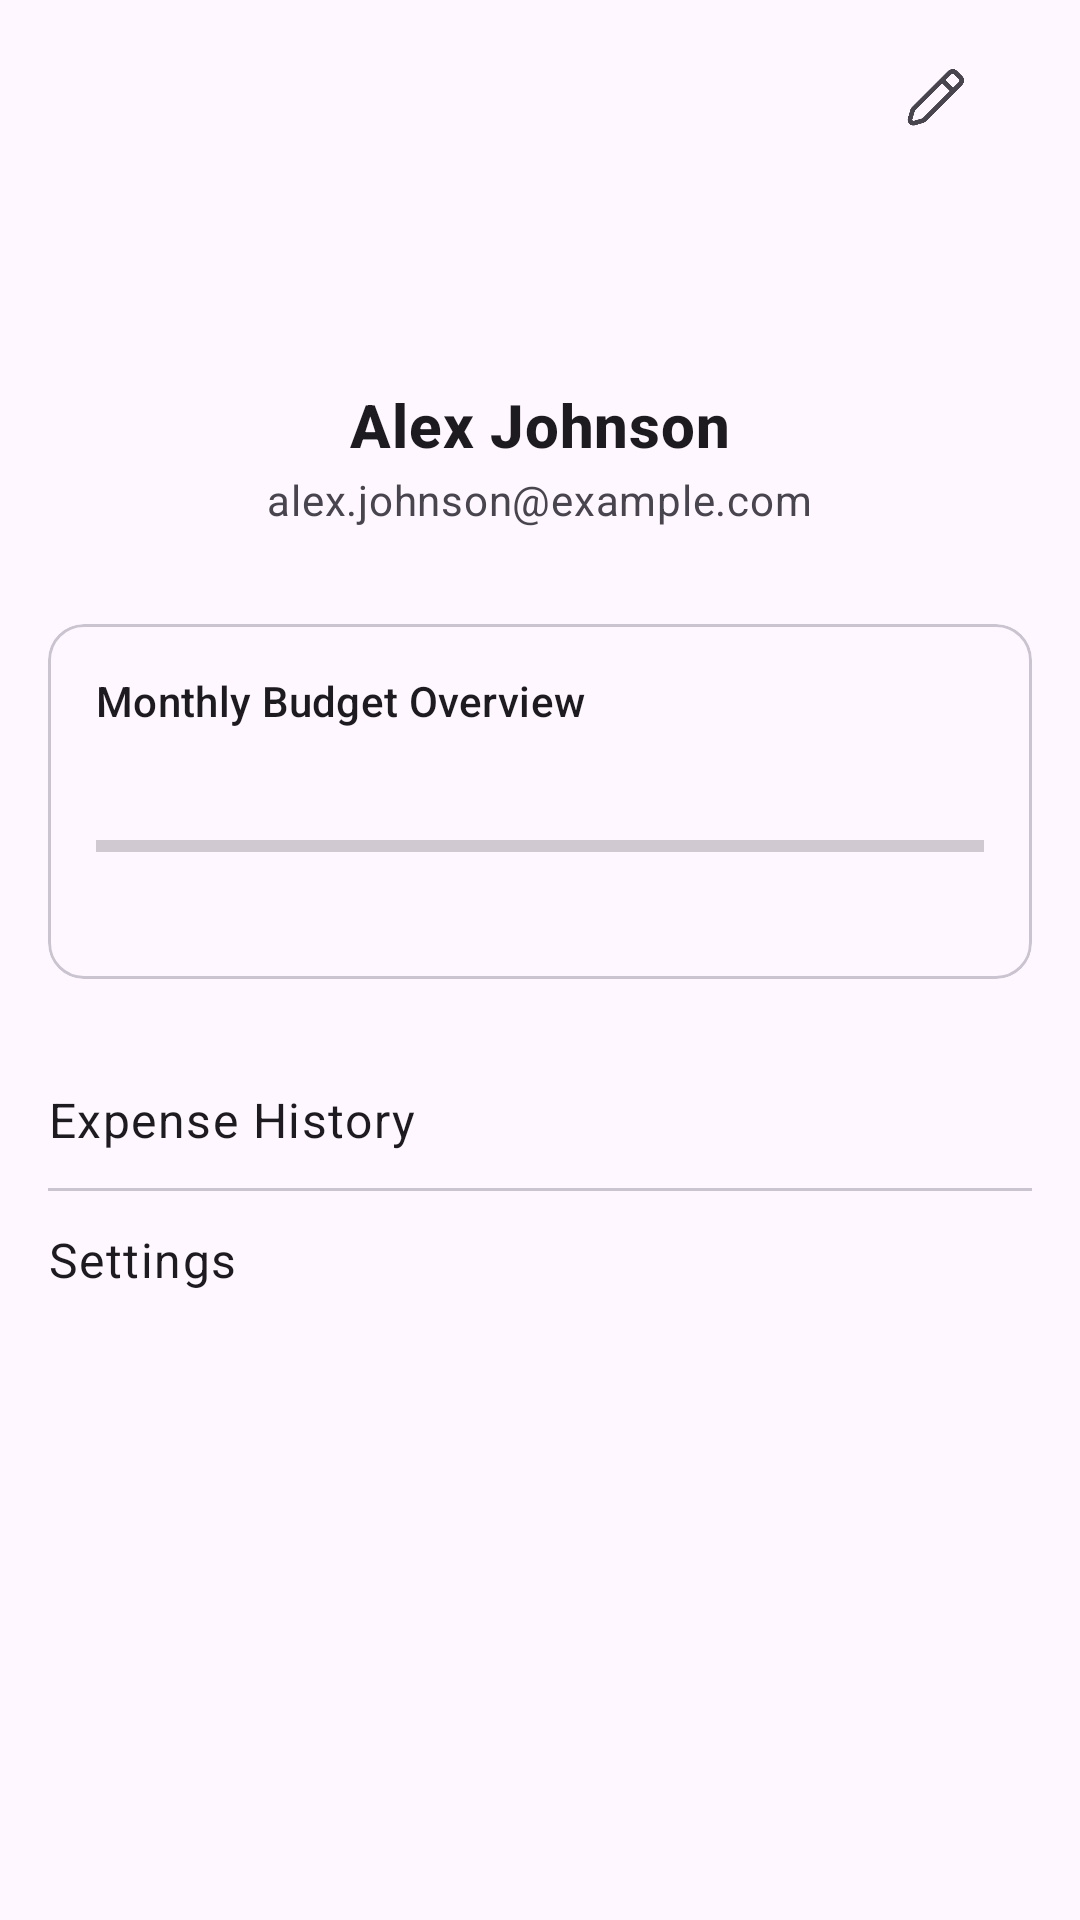

Icon click points for this 1080 x 1920 phone screenshot, format (x,y):
Edit Profile: (935,97)
